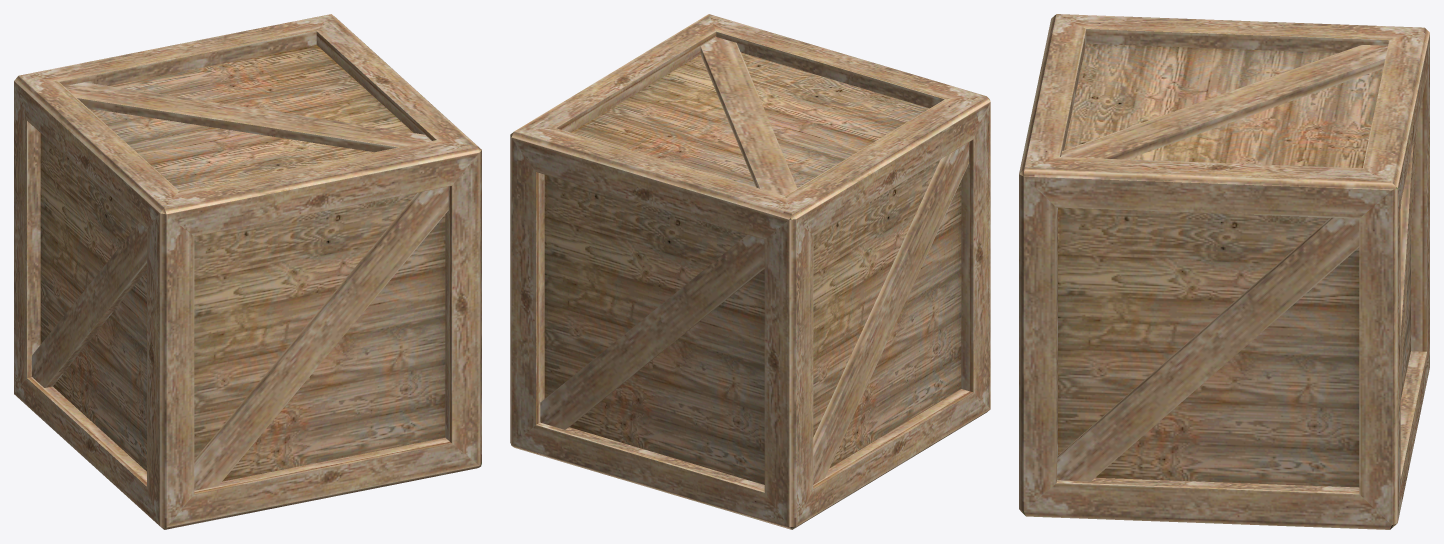
Rendered from pallettebox025_woodbox_dm_0_lev1.glb.
3 renders of one model, left to right at view 1: azimuth 30°, elevation 25°; view 2: azimuth 150°, elevation 25°; view 3: azimuth 270°, elevation 25°, orthographic. The views are drawn at different scales.
Parts seen in each view (by area): view 1: pallettebox025_woodbox_dm_0_lev1; view 2: pallettebox025_woodbox_dm_0_lev1; view 3: pallettebox025_woodbox_dm_0_lev1.
Boxes of the visible parts, box(x1,y1,x2,y2) form: pallettebox025_woodbox_dm_0_lev1: box(14, 14, 481, 529); pallettebox025_woodbox_dm_0_lev1: box(510, 14, 990, 529); pallettebox025_woodbox_dm_0_lev1: box(1019, 14, 1429, 529).
Bounding box in the file's own units: 0.868 × 0.803 × 0.868.
Materials: 1 (1 with a texture image).
